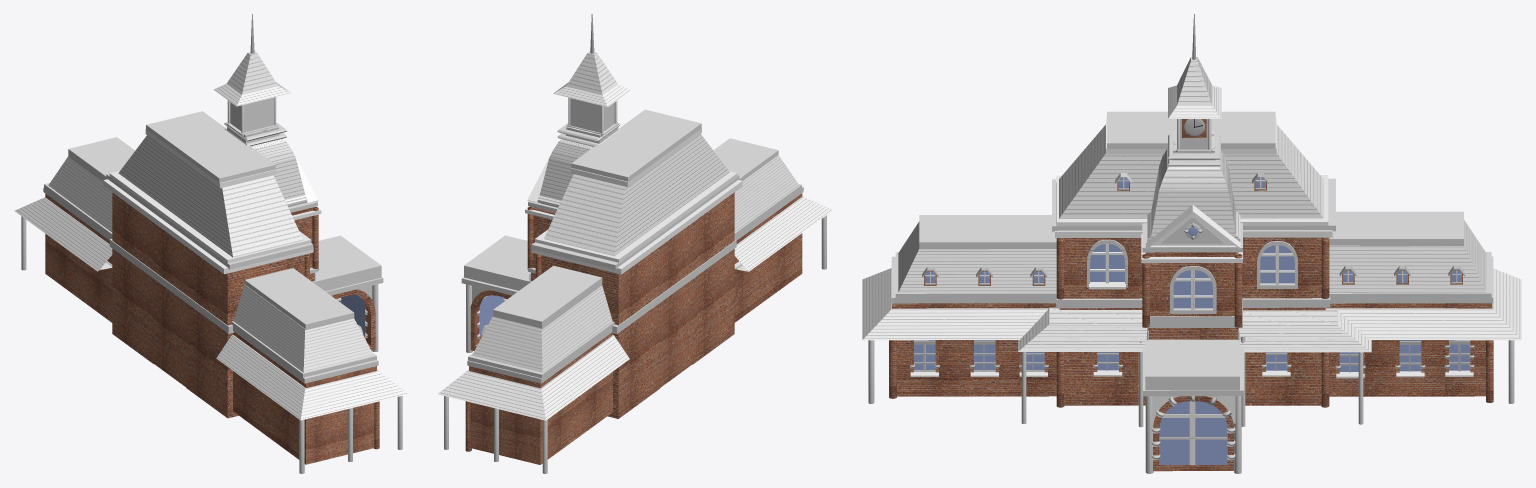
Rendered from train.glb.
3 renders of one model, left to right at view 1: azimuth 30°, elevation 25°; view 2: azimuth 150°, elevation 25°; view 3: azimuth 270°, elevation 25°, orthographic. The views are drawn at different scales.
Visible parts, largest first — view 1: Cube.020, Cube.011, Cube.003, Cube.035, Cube.002, Cube.018, Cube.001, Cube.045, Cube.043, Cube.004, Cube.038, Cube.041 (+16 smaller); view 2: Cube.020, Cube.002, Cube.004, Cube.038, Cube.019, Cube.011, Cube.001, Cube.045, Cube.044, Cube.003, Cube.035, Cube.041 (+17 smaller); view 3: Cube.020, Cube.019, Cube.002, Cube.003, Cube.035, Cube.004, Cube.018, Cube.011, Cube.038, Cube.037, Cube.041, Cube.036 (+27 smaller).
Part boxes in pixels (bbox=[...]): Cube.020: bbox=[118, 135, 304, 261]; Cube.011: bbox=[186, 250, 304, 418]; Cube.003: bbox=[233, 332, 376, 464]; Cube.035: bbox=[216, 334, 408, 420]; Cube.002: bbox=[112, 192, 153, 363]; Cube.018: bbox=[233, 284, 373, 372]; Cube.001: bbox=[153, 223, 190, 390]; Cube.045: bbox=[146, 111, 275, 182]; Cube.043: bbox=[244, 268, 354, 329]; Cube.004: bbox=[45, 194, 112, 322]; Cube.038: bbox=[14, 197, 112, 271]; Cube.041: bbox=[312, 235, 381, 291]; Cube.020: bbox=[544, 134, 729, 256]; Cube.002: bbox=[541, 247, 660, 418]; Cube.004: bbox=[469, 333, 612, 464]; Cube.038: bbox=[438, 335, 629, 420]; Cube.019: bbox=[472, 285, 612, 372]; Cube.011: bbox=[692, 192, 734, 364]; Cube.001: bbox=[658, 220, 696, 387]; Cube.045: bbox=[571, 109, 701, 181]; Cube.044: bbox=[493, 265, 602, 329]; Cube.003: bbox=[734, 193, 802, 322]; Cube.035: bbox=[734, 196, 833, 271]; Cube.041: bbox=[464, 235, 531, 290]; Cube.020: bbox=[1056, 124, 1323, 222]; Cube.019: bbox=[1329, 220, 1486, 292]; Cube.002: bbox=[1242, 237, 1325, 405]; Cube.003: bbox=[892, 303, 1056, 396]; Cube.035: bbox=[862, 268, 1048, 340]; Cube.004: bbox=[1326, 303, 1492, 396]; Cube.018: bbox=[898, 221, 1056, 292]; Cube.011: bbox=[1059, 238, 1145, 405]; Cube.038: bbox=[1337, 268, 1521, 340]; Cube.037: bbox=[1238, 308, 1371, 352]; Cube.041: bbox=[1145, 337, 1239, 390]; Cube.036: bbox=[1018, 307, 1147, 351].
Size of the model in its own units: 3.4 by 5.52 by 8.24.
8 materials, 3 textured.
